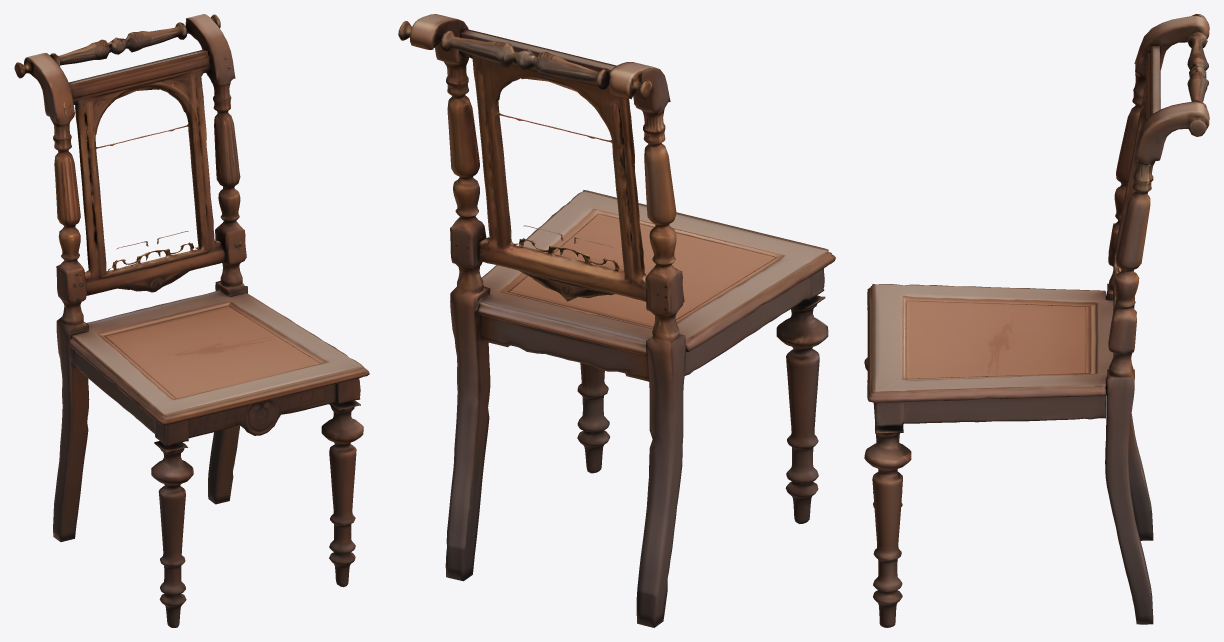
3 views of the same model, side by side, from view 1: azimuth 30°, elevation 25°; view 2: azimuth 150°, elevation 25°; view 3: azimuth 270°, elevation 25° (orthographic). The views are drawn at different scales.
Parts seen in each view (by area): view 1: root.0, root.1, root.2, root.3, root.5, root.4, root.6; view 2: root.0, root.2, root.3, root.1, root.4, root.6, root.5; view 3: root.0, root.3, root.2, root.5, root.1, root.6.
Boxes of the visible parts, x1,y1,x2,y2 form: root.0: [68, 290, 369, 446]; root.1: [68, 49, 224, 295]; root.2: [14, 53, 89, 541]; root.3: [185, 14, 247, 504]; root.5: [321, 400, 363, 587]; root.4: [151, 441, 193, 627]; root.6: [50, 22, 187, 66]; root.0: [477, 190, 835, 381]; root.2: [609, 62, 685, 627]; root.3: [398, 14, 490, 581]; root.1: [459, 29, 646, 301]; root.4: [776, 295, 828, 523]; root.6: [440, 30, 609, 89]; root.5: [577, 363, 609, 473]; root.0: [867, 284, 1113, 426]; root.3: [1105, 101, 1209, 624]; root.2: [1106, 14, 1209, 540]; root.5: [864, 425, 911, 627]; root.1: [1113, 45, 1160, 311]; root.6: [1187, 31, 1208, 109].
Size of the model in its own units: 0.4793 by 1.02 by 0.6196.
Materials: 7 (7 with a texture image).
